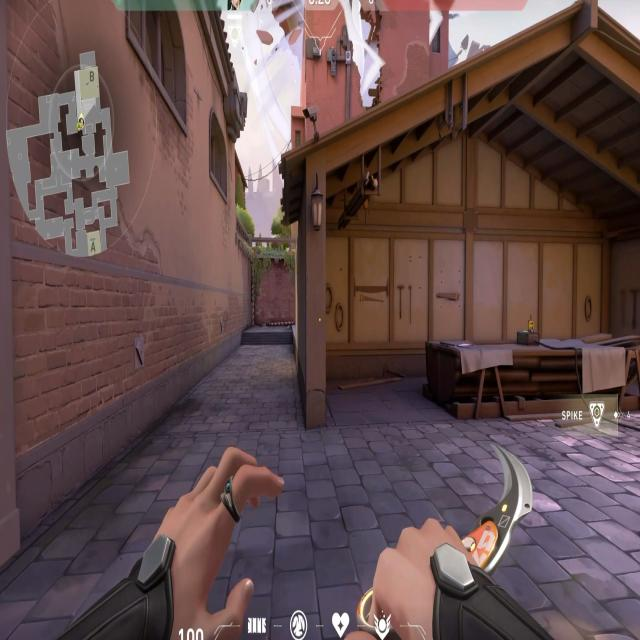B_Garage_Left: (306, 152, 468, 446)
Throwables: (126, 0, 191, 138), (205, 104, 229, 204)
